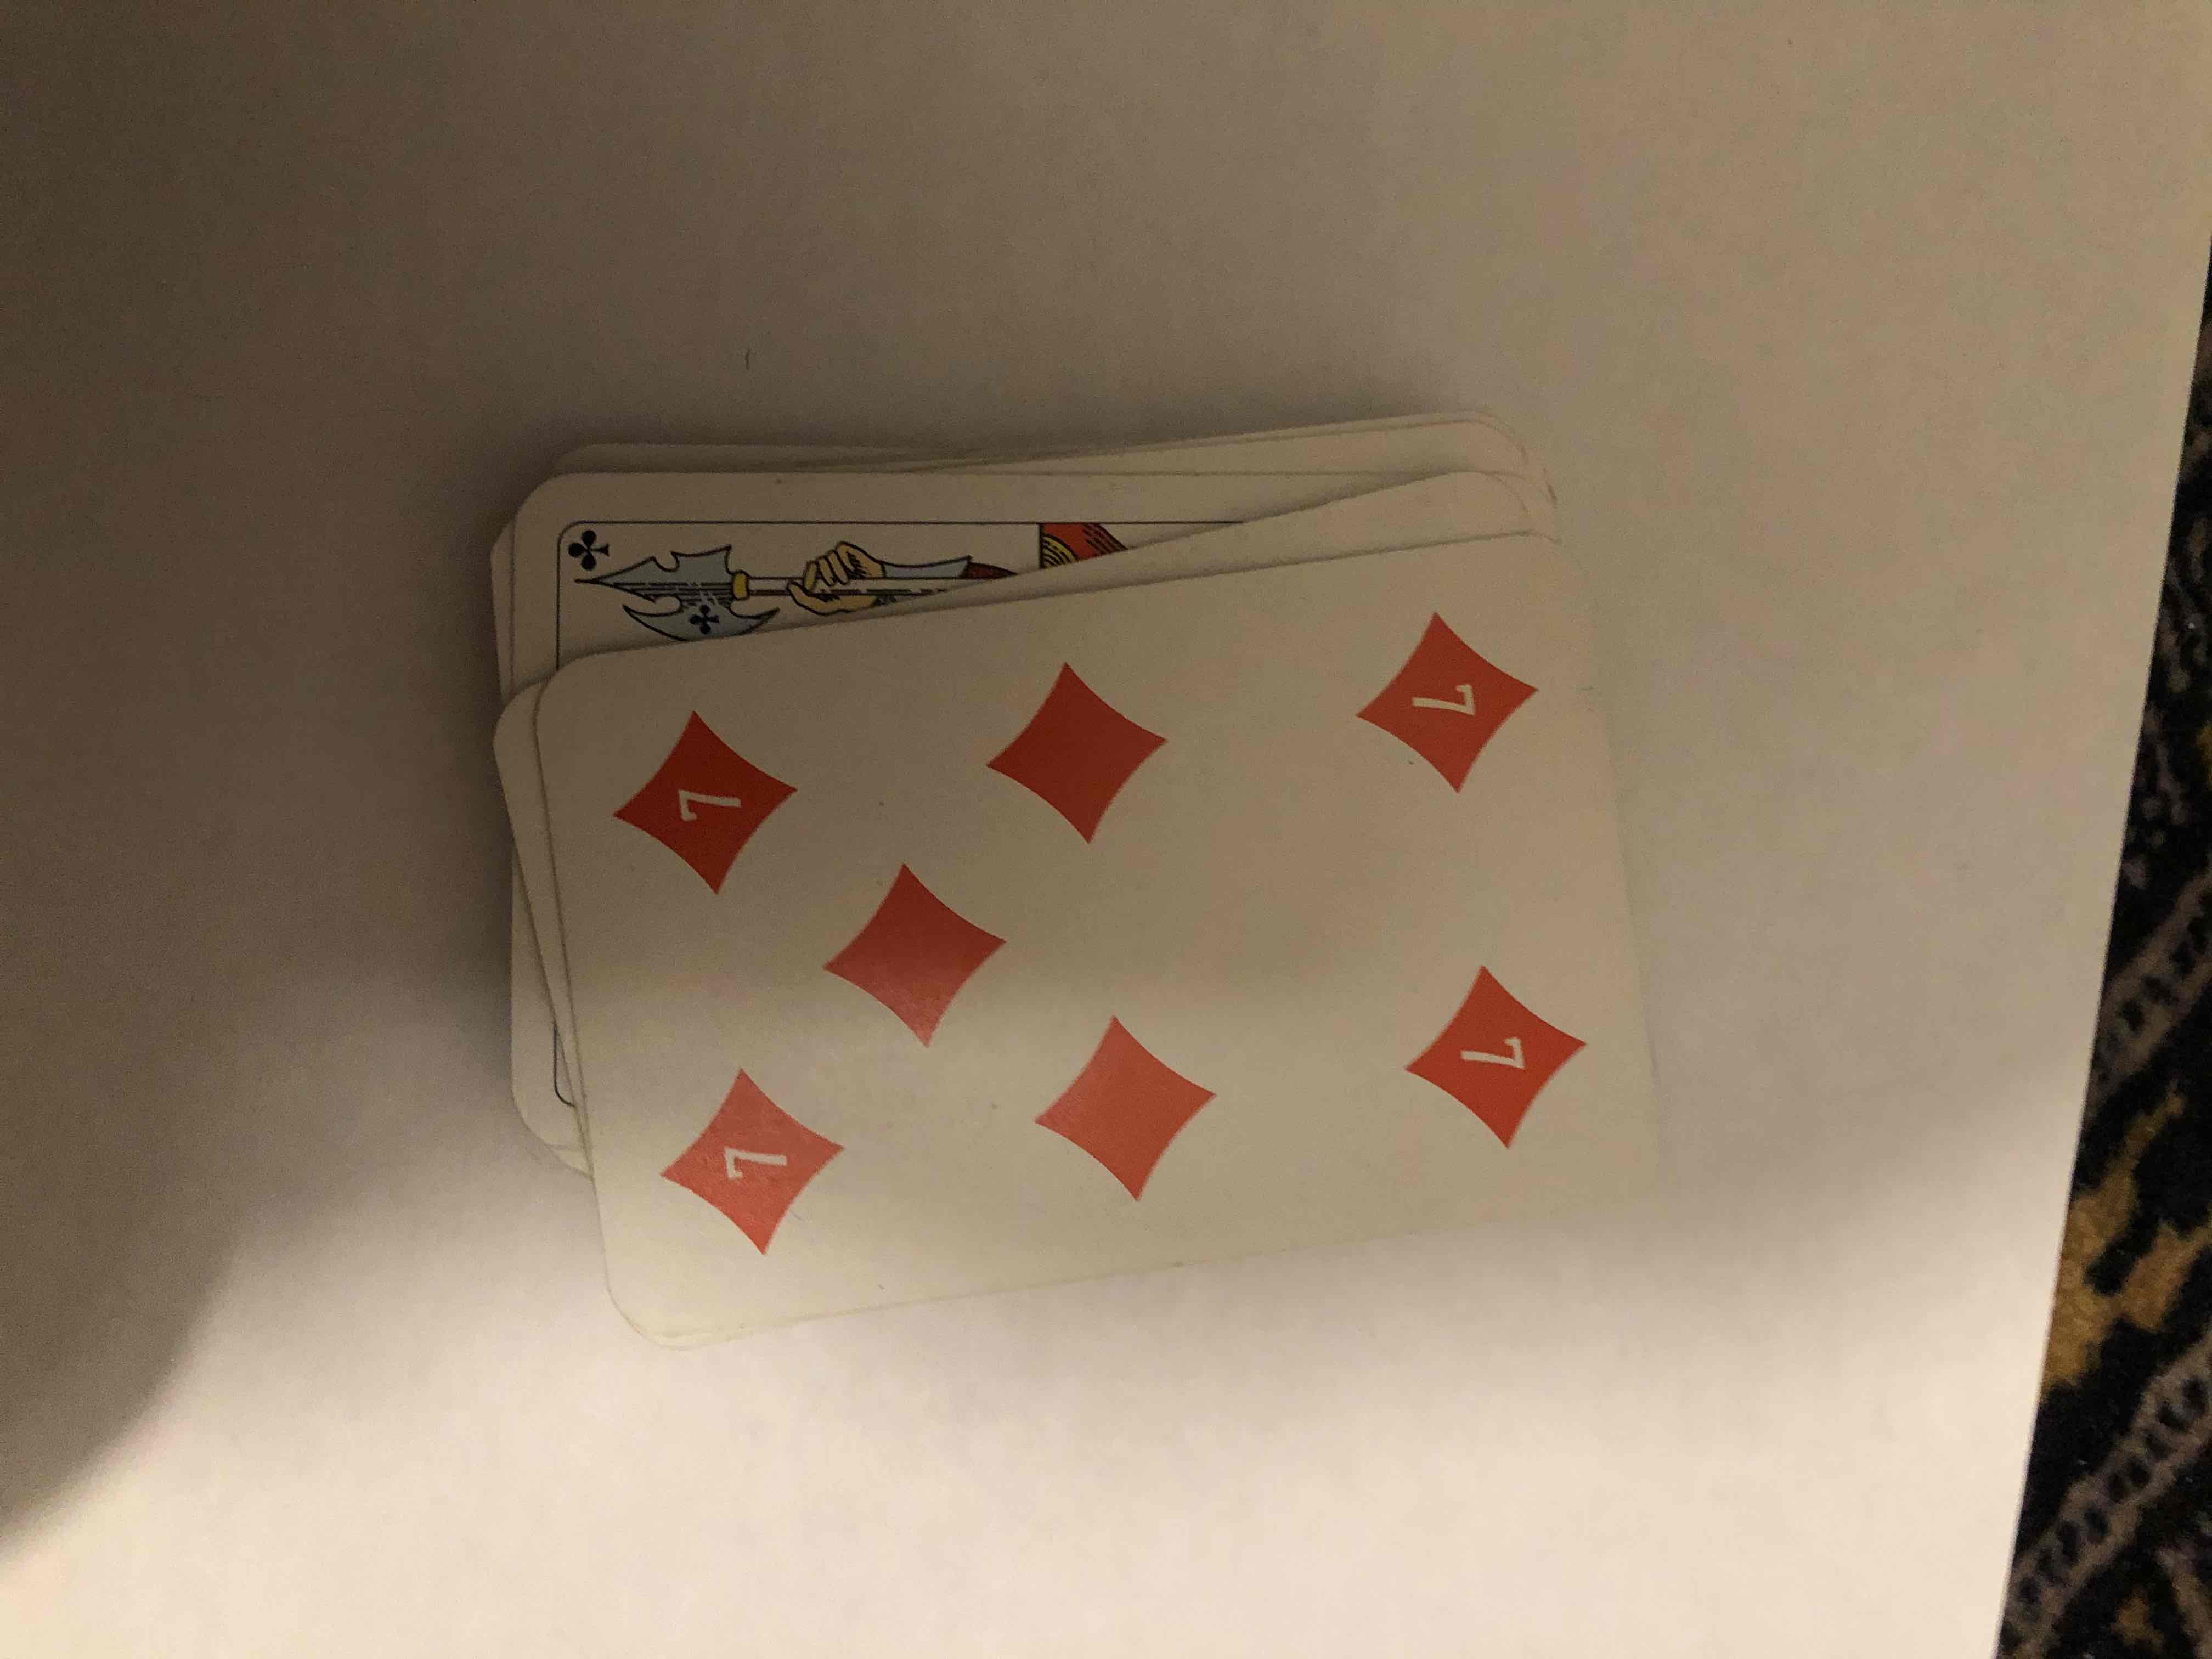diamond7: (590, 575, 1709, 1323)
